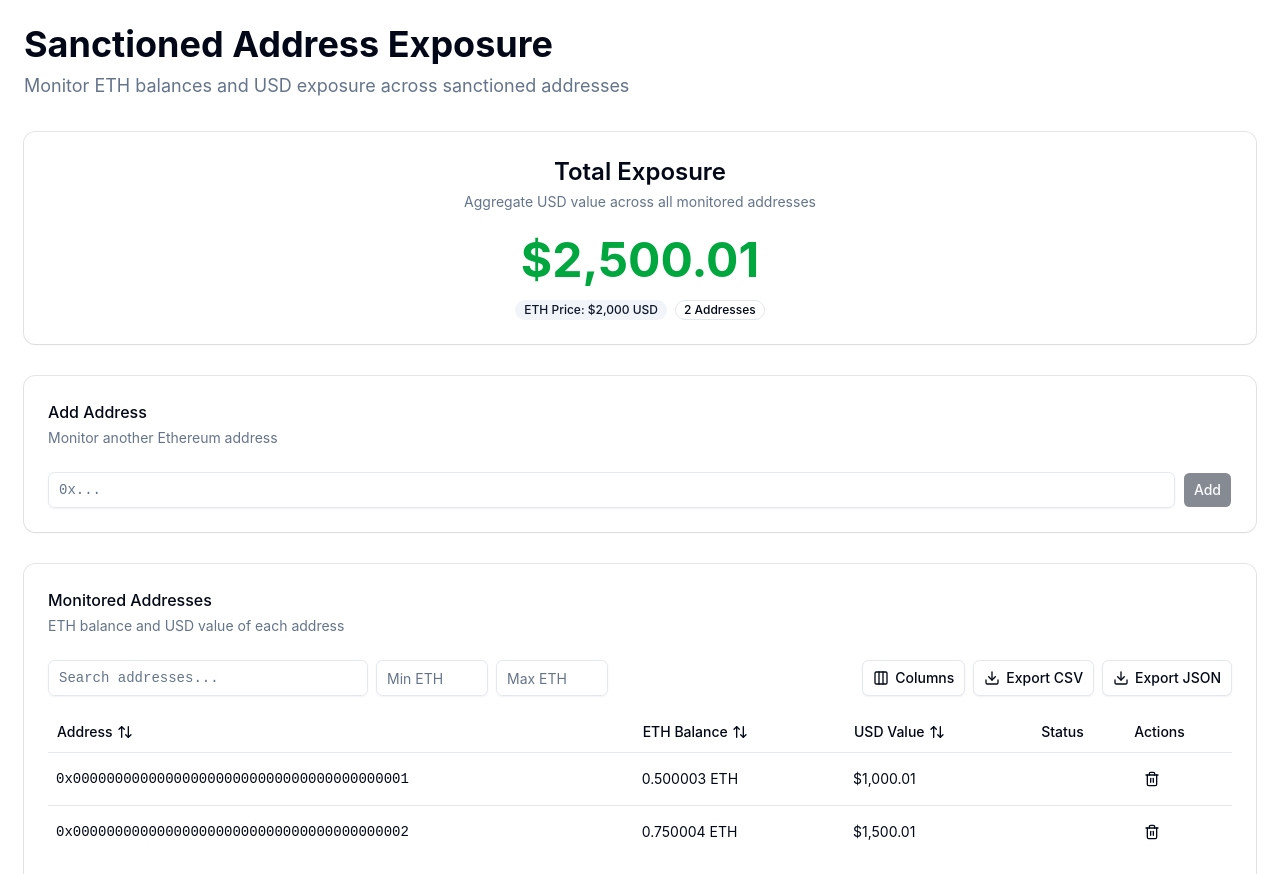
ExposurePage › removes a row and shows a toast when its remove button is clicked
This screenshot has width=1280, height=874.
Click the button named "Remove 0x0000000000000000000000000000000000000002" at (1152, 832), box [1134,814,1170,850]
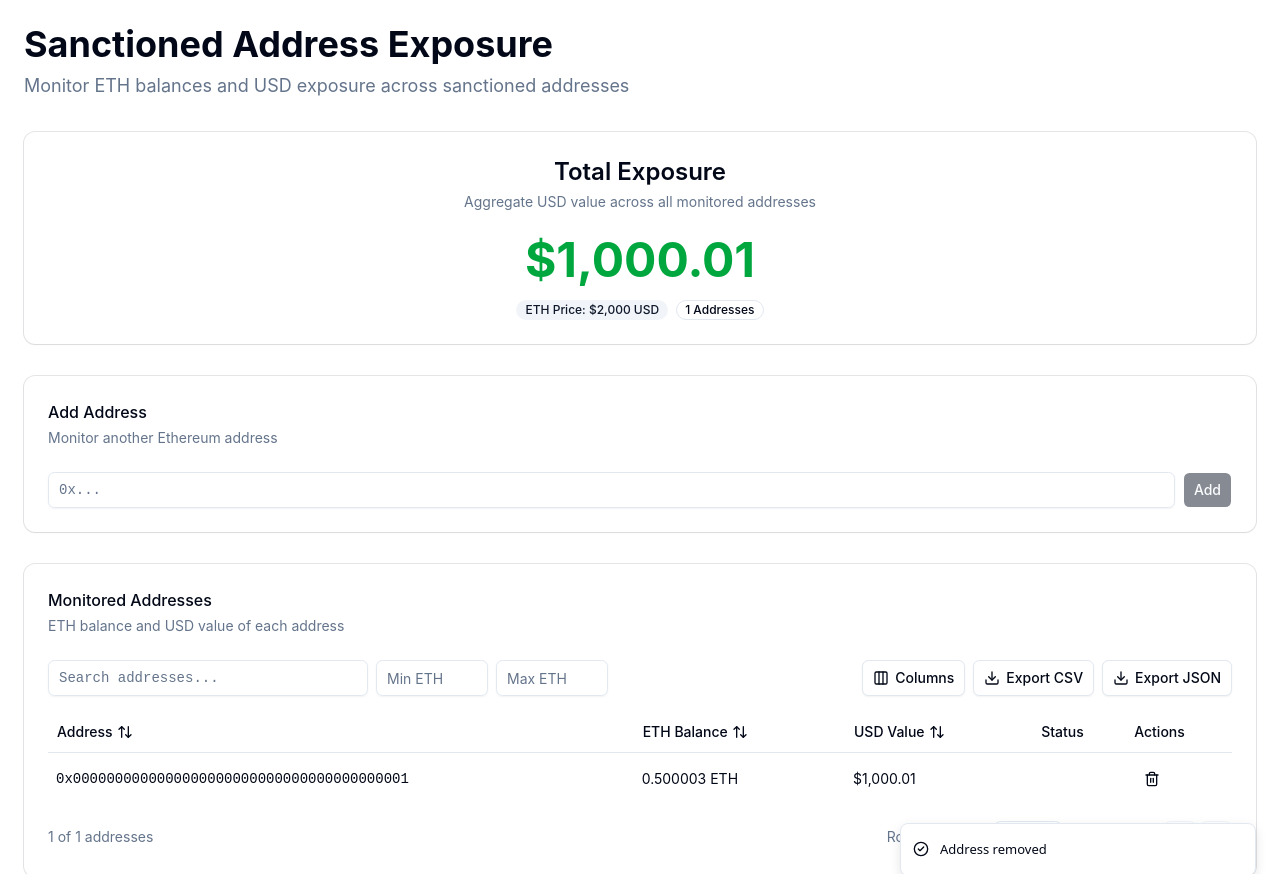
Expected: the text "0x0000000000000000000000000000000000000002" is gone
Expected: the text "Address removed" is shown, [940,840,1047,859]
